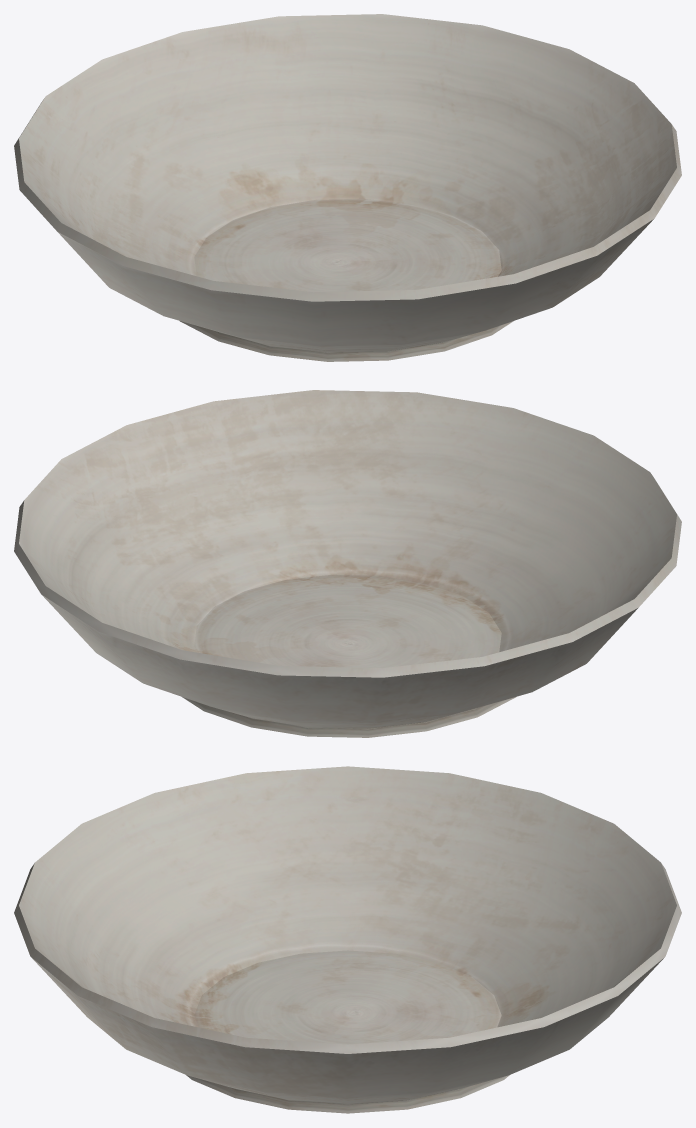
Rendered from PlateDeep.fbx.
3 renders of one model, top to bottom at view 1: azimuth 30°, elevation 25°; view 2: azimuth 150°, elevation 25°; view 3: azimuth 270°, elevation 25°, orthographic.
Parts seen in each view (by area): view 1: Default_Layer; view 2: Default_Layer; view 3: Default_Layer.
Boxes of the visible parts, x1,y1,x2,y2 form: Default_Layer: (14,14,681,361); Default_Layer: (14,390,681,737); Default_Layer: (14,766,681,1113).
Size of the model in its own units: 82.14 by 17.18 by 82.14.
